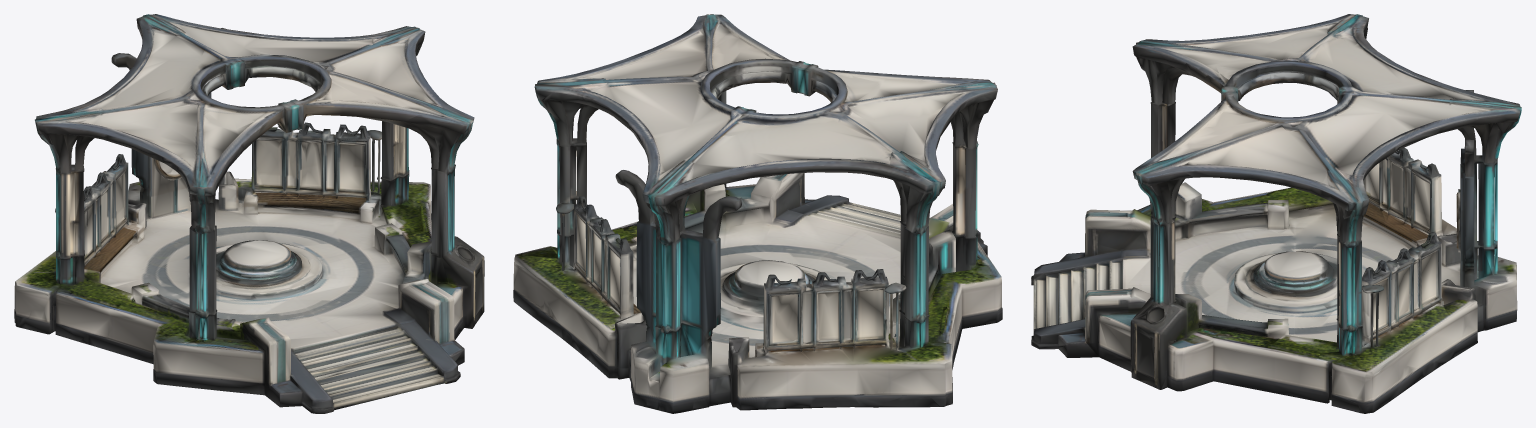
Rendered from passiona-champion-skill-pavilion.glb.
3 views of the same model, side by side, from view 1: azimuth 30°, elevation 25°; view 2: azimuth 150°, elevation 25°; view 3: azimuth 270°, elevation 25° (orthographic). The views are drawn at different scales.
Parts seen in each view (by area): view 1: node_0; view 2: node_0; view 3: node_0.
Boxes of the visible parts, x1=… form: node_0: x1=14, y1=14, x2=484, y2=413; node_0: x1=513, y1=14, x2=1002, y2=413; node_0: x1=1031, y1=14, x2=1521, y2=413.
Bounding box in the file's own units: 1.02 × 0.5188 × 1.04.
1 material, 1 textured.
